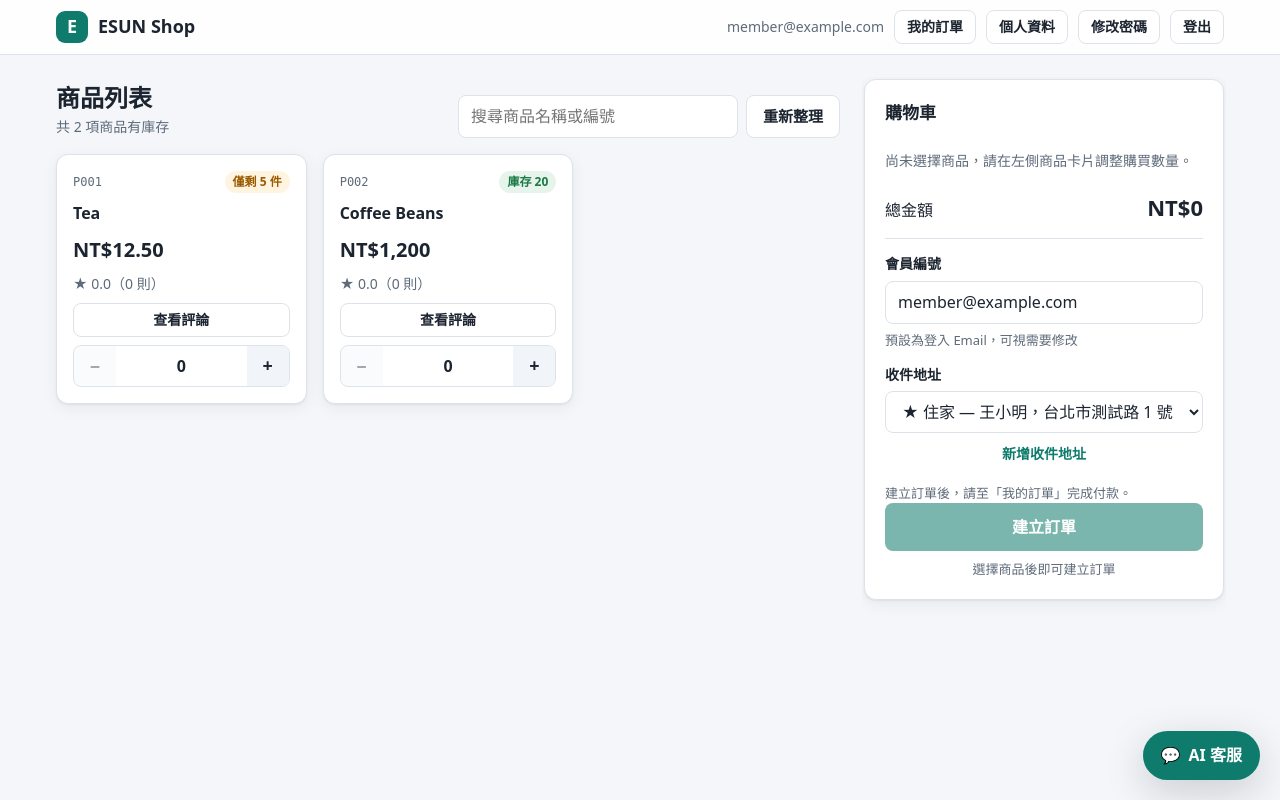
checkout › shrinks cart lines when a reload reports lower stock
Replace the text in the number field named "Coffee Beans 購買數量" with "10" at (448, 366), box [383,346,513,386]
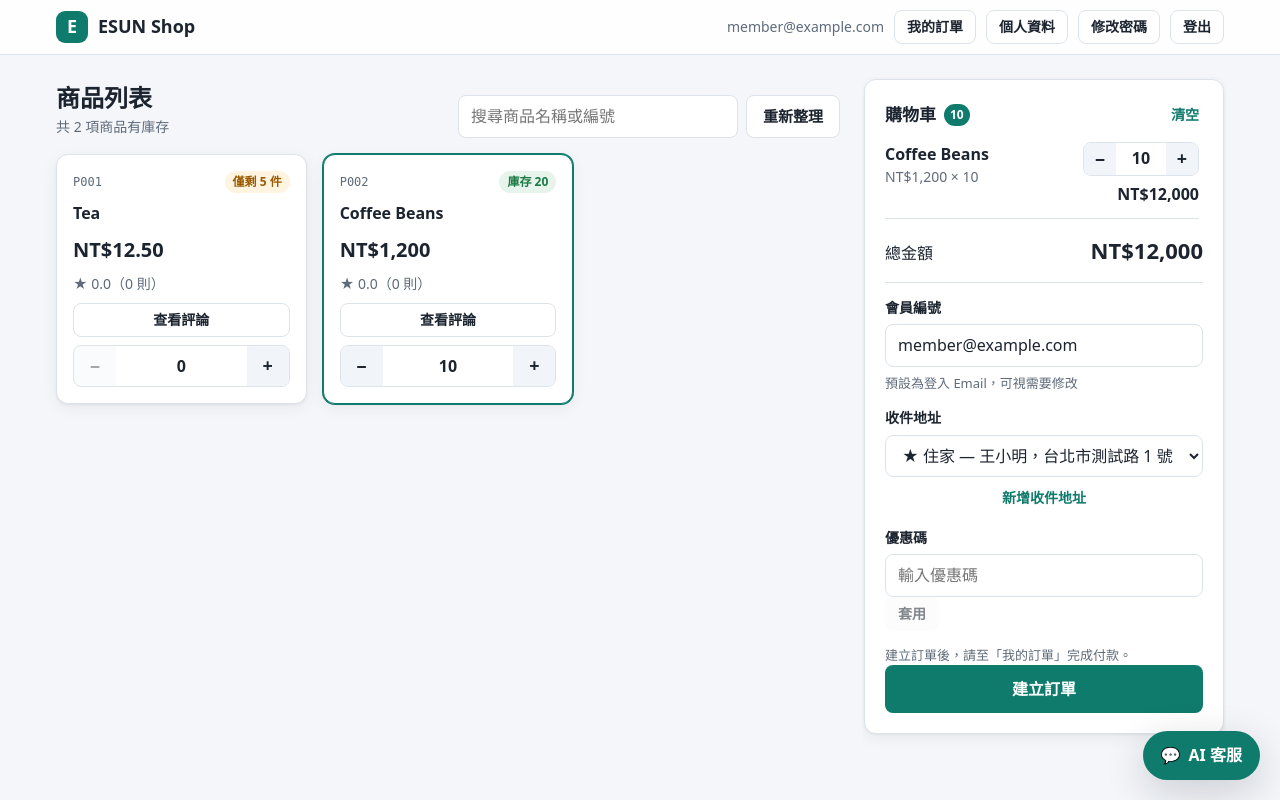
Click the button "重新整理" at (793, 116), box [746,95,840,138]
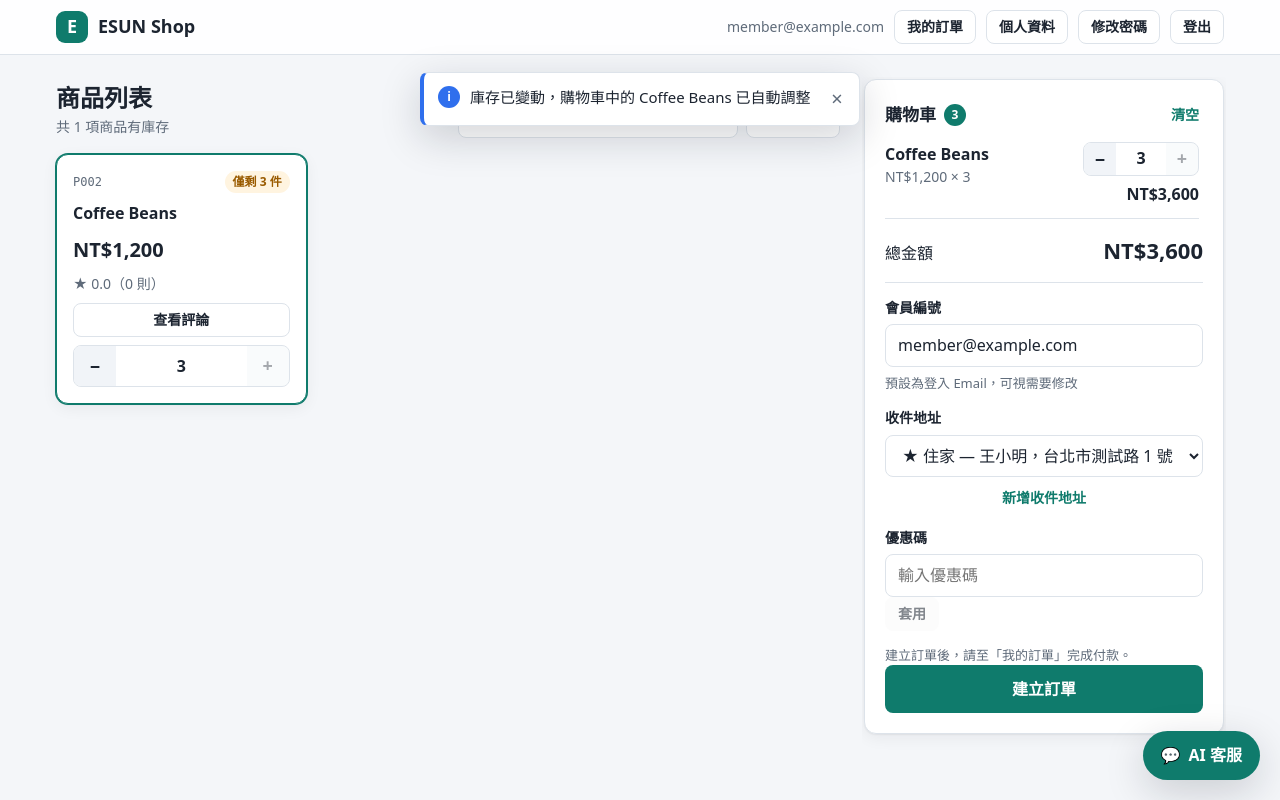
Result: the text "Coffee Beans 已自動調整" is shown at [470,87,811,107]
